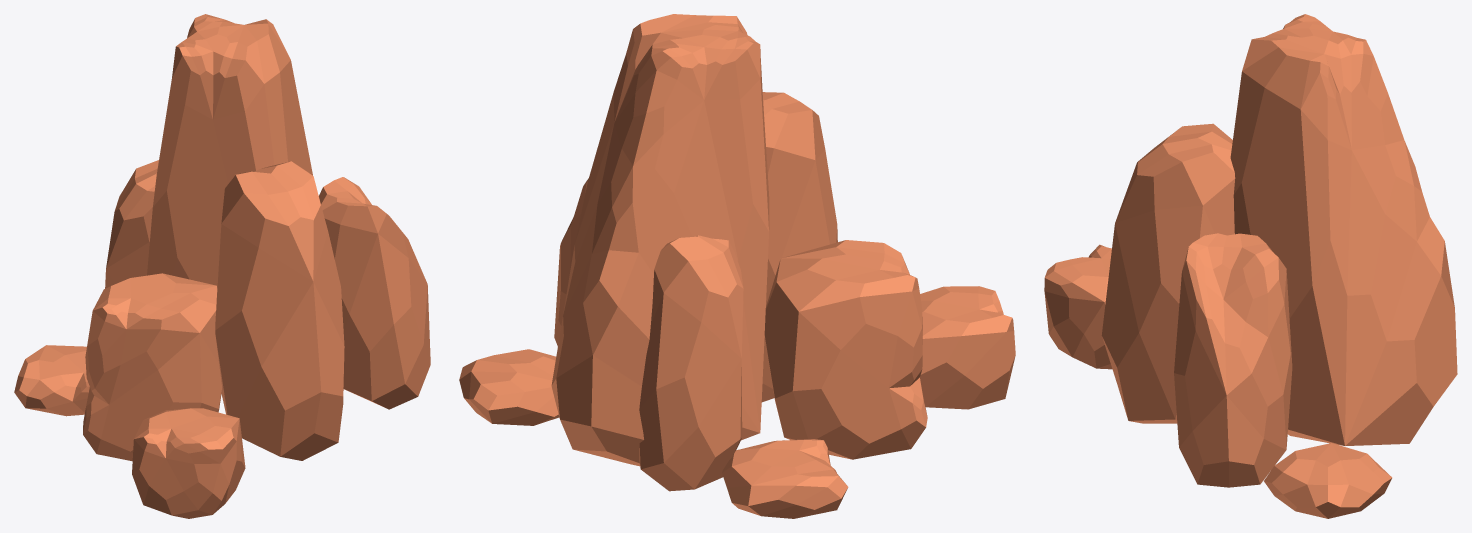
The model's file is rock07.fbx.
3 views of the same model, side by side, from view 1: azimuth 30°, elevation 25°; view 2: azimuth 150°, elevation 25°; view 3: azimuth 270°, elevation 25° (orthographic). The views are drawn at different scales.
Visible parts, largest first — view 1: rock_07; view 2: rock_07; view 3: rock_07.
Boxes of the visible parts, box(x1,y1,x2,y2) form: rock_07: box(14, 14, 430, 518); rock_07: box(459, 14, 1015, 518); rock_07: box(1044, 14, 1457, 518).
Bounding box in the file's own units: 3.46 × 3.14 × 3.04.
1 material, 1 textured.
